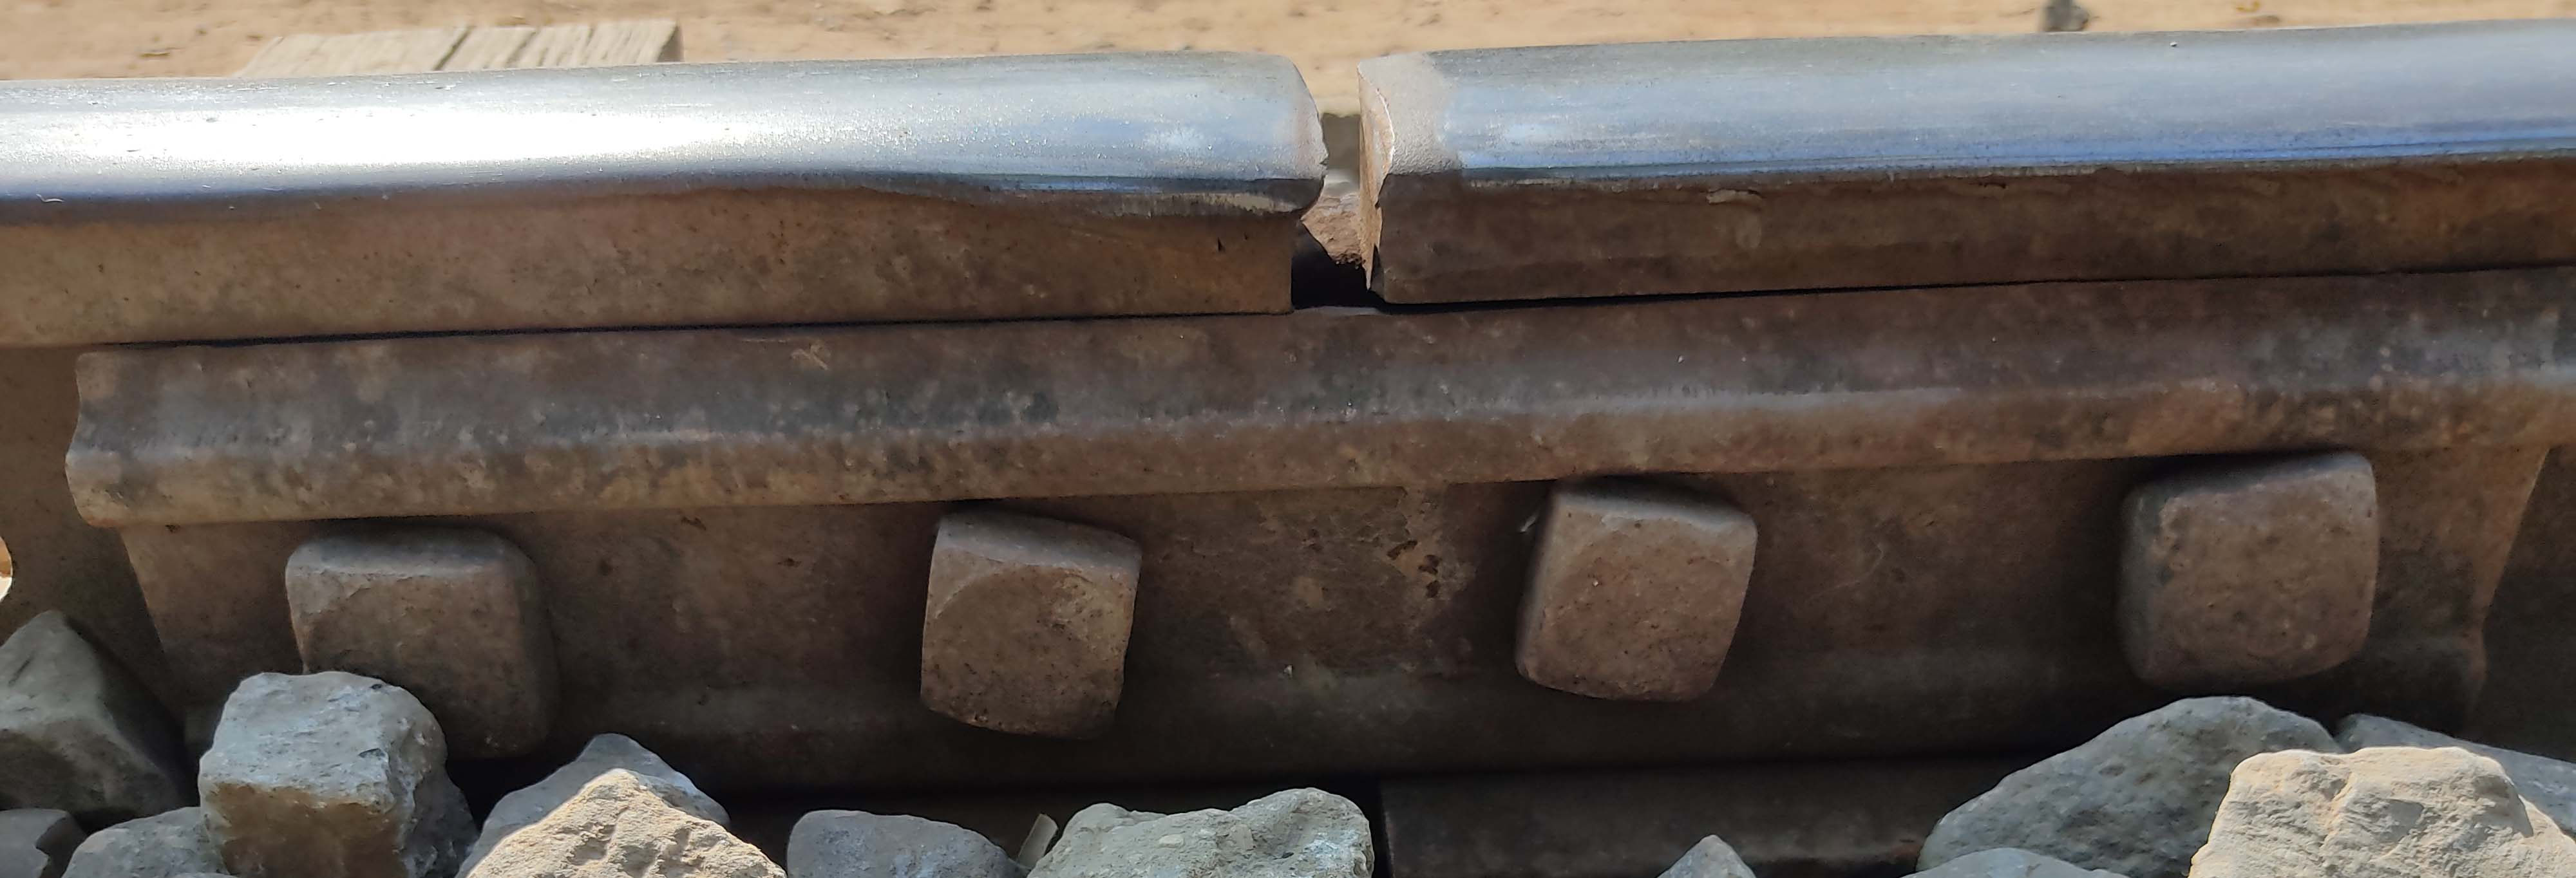error2: (1250, 20, 1480, 320)
